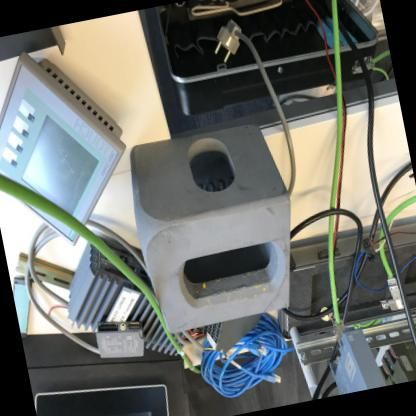CornerCasting: (118, 112, 314, 341)
